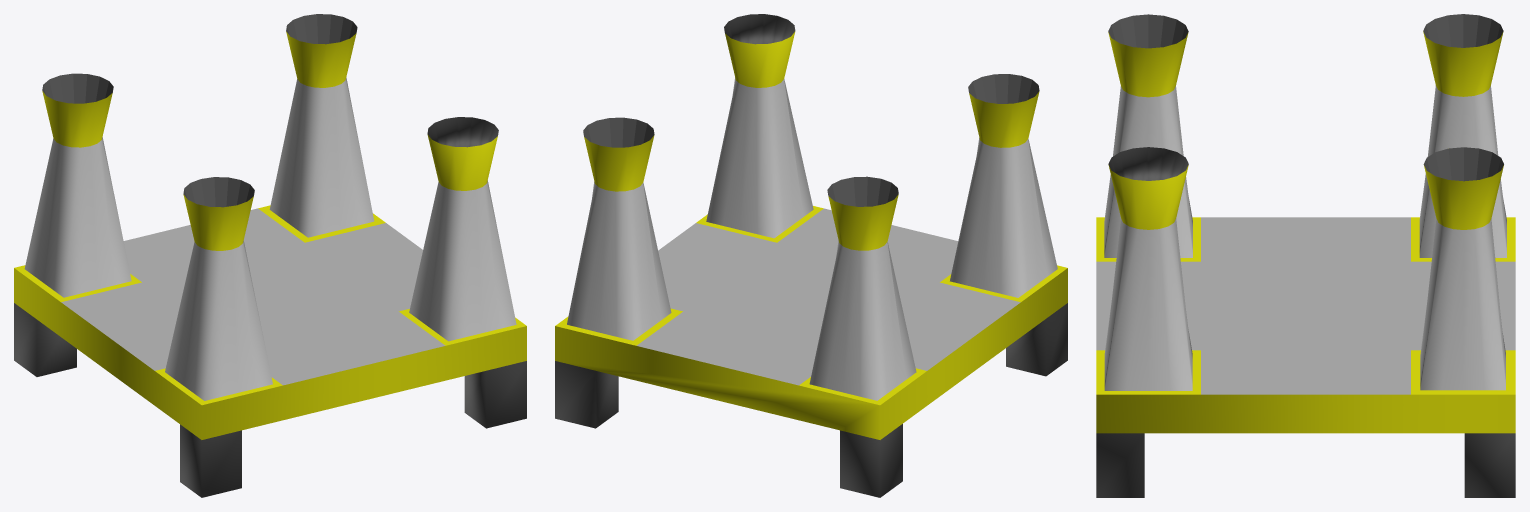
The model's file is WarBaseYellow.fbx.
3 renders of one model, left to right at view 1: azimuth 30°, elevation 25°; view 2: azimuth 150°, elevation 25°; view 3: azimuth 270°, elevation 25°, orthographic. The views are drawn at different scales.
Visible parts, largest first — view 1: pCylinder5; view 2: pCylinder5; view 3: pCylinder5.
Part boxes in pixels (left/top/right/bottom): pCylinder5: left=14, top=14, right=526, bottom=497; pCylinder5: left=555, top=14, right=1067, bottom=497; pCylinder5: left=1096, top=14, right=1515, bottom=497.
Bounding box in the file's own units: 3.67 × 3.01 × 3.67.
